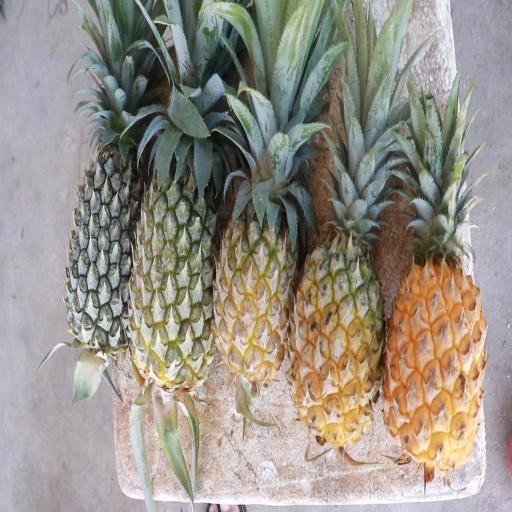------------------------------: (126, 119, 213, 384)
Pineapple - v8 v1: (385, 197, 483, 461), (291, 188, 380, 440), (213, 150, 294, 387)
